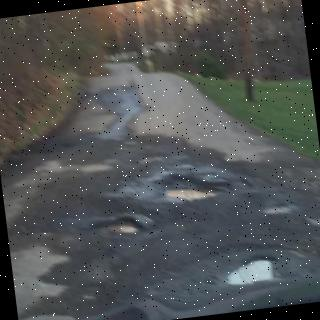pothole: (154, 172, 236, 203), (224, 255, 277, 287), (89, 216, 143, 239)
